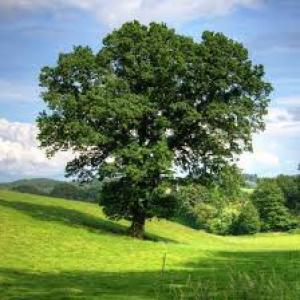Tree: (30, 16, 273, 240)
